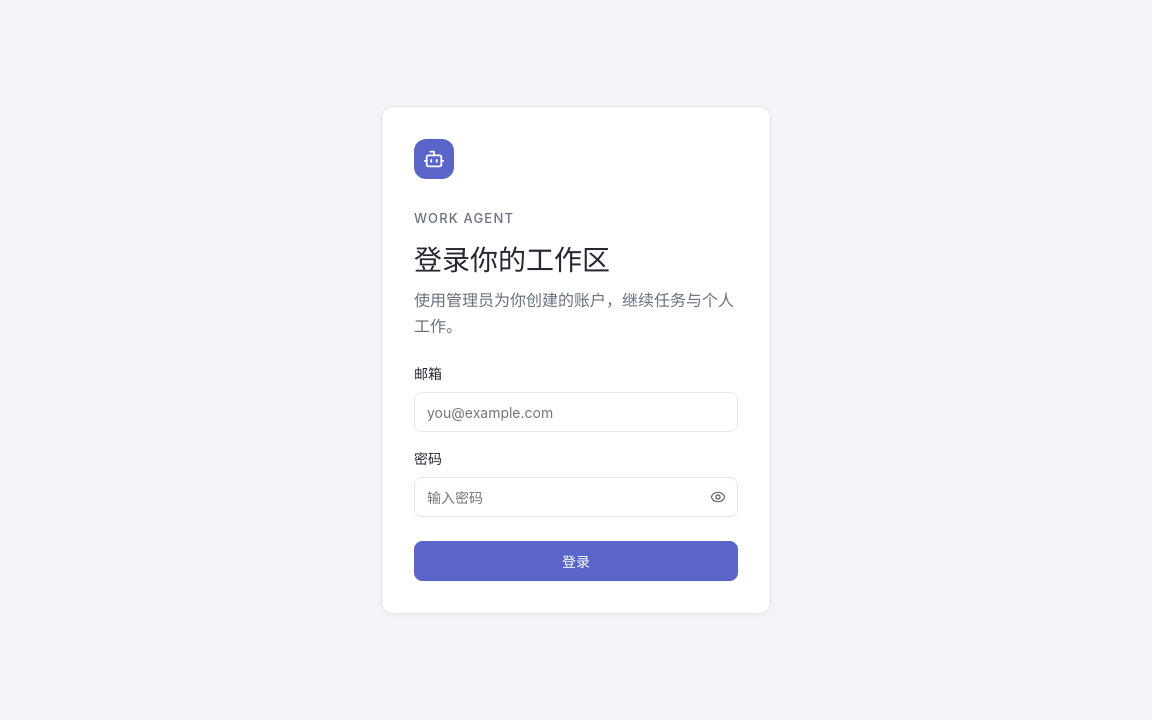
Scenario: authentication › routes unauthenticated users through password login and reports rejected credentials
expect the heading "登录你的工作区" is shown: met, box [414,243,610,277]
expect the heading "Quarterly plan" is not shown: met
Type "User@Example.com" into the field labelled "邮箱" at (576, 412), box [414,392,738,432]
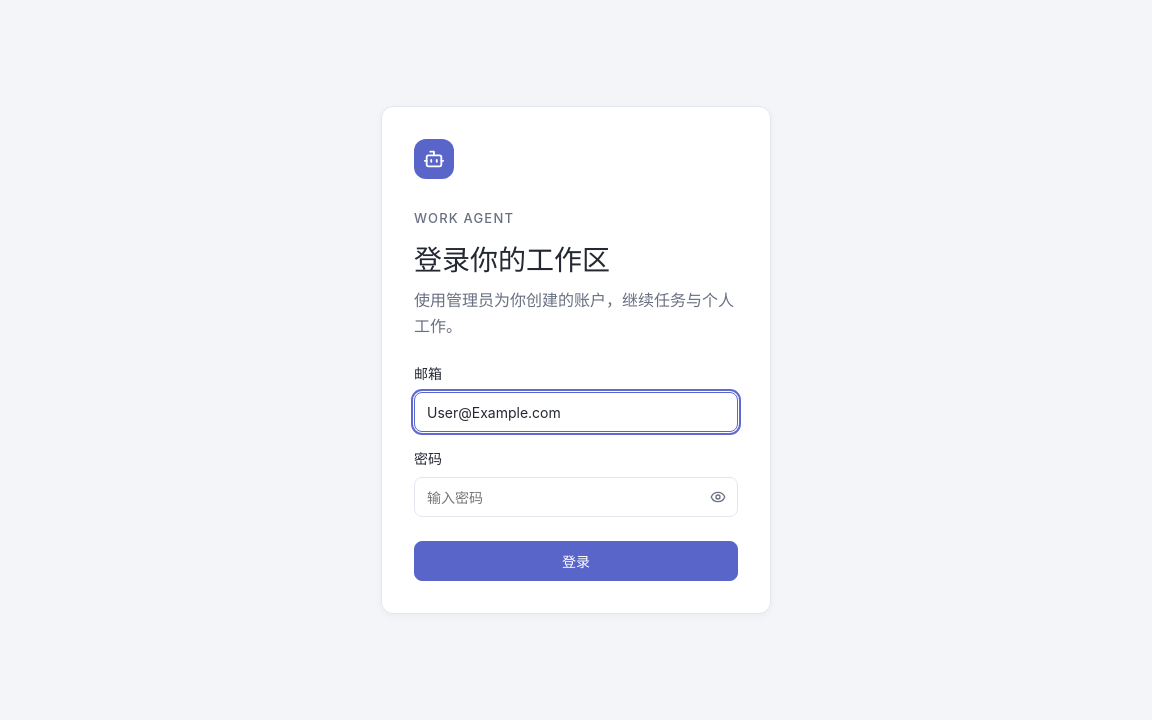
Type "wrong-password" into the password field labelled "密码" at (576, 497), box [414,477,738,517]
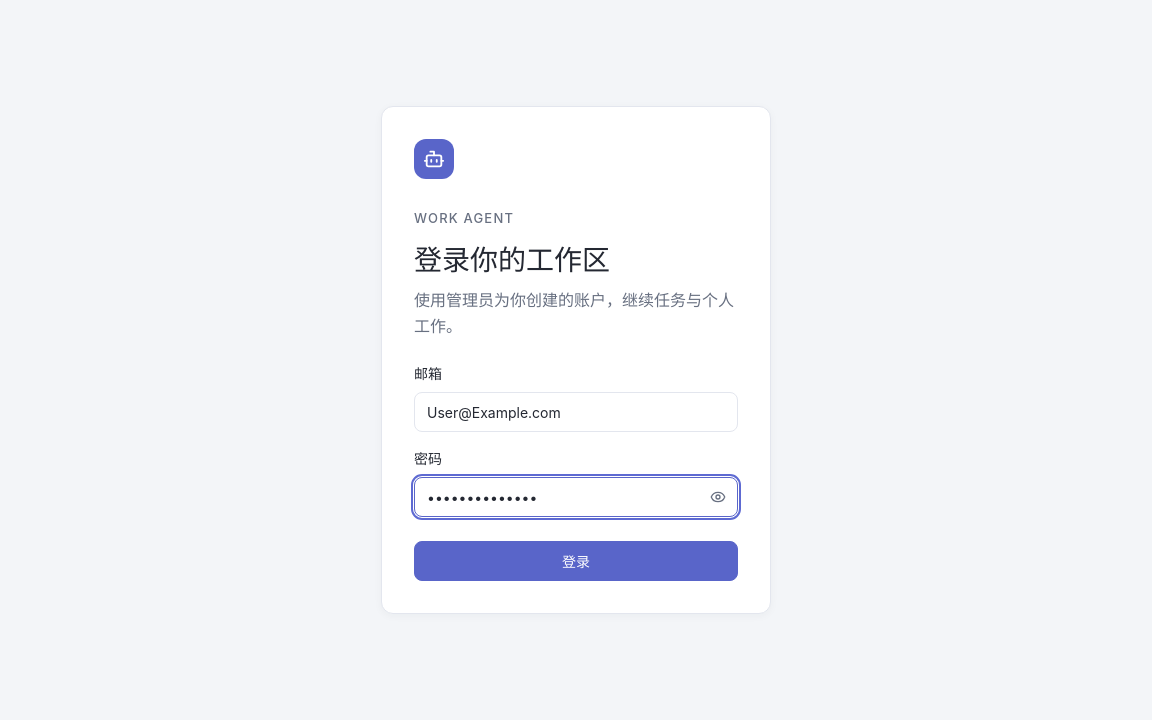
Click the button "登录" at (576, 561), box [414,541,738,581]
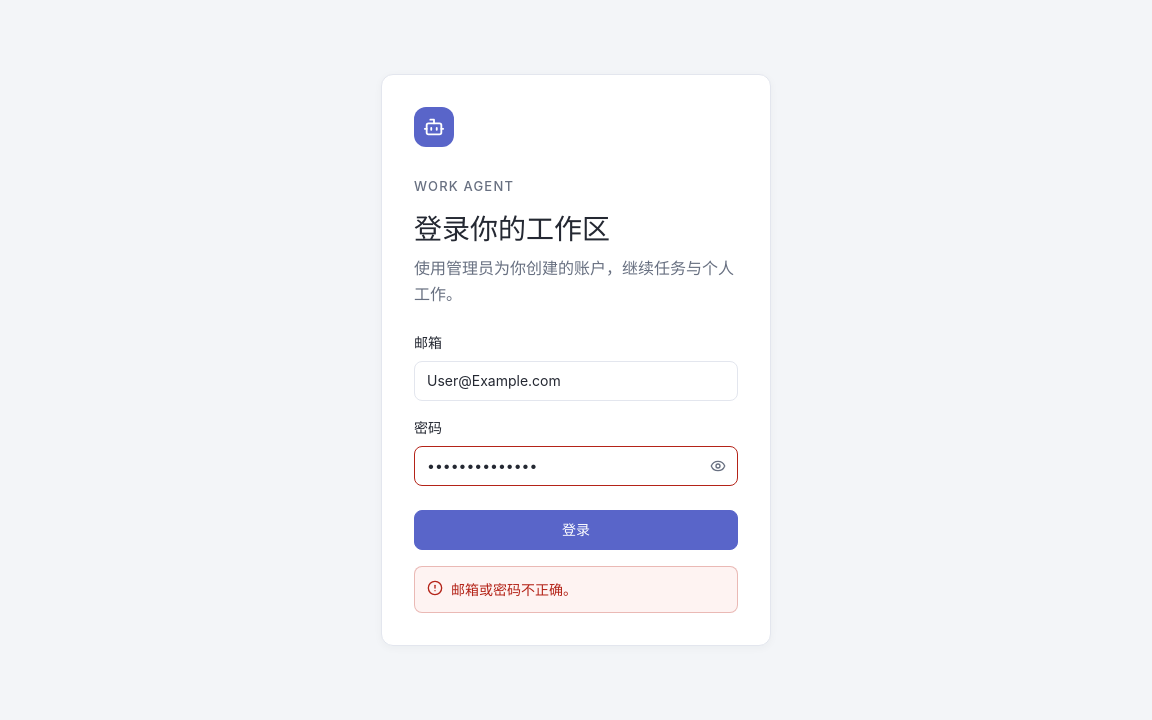
expect the text "邮箱或密码不正确。" is shown: met, box [451,581,577,598]
Type "correct-password" into the password field labelled "密码" at (576, 466), box [414,446,738,486]
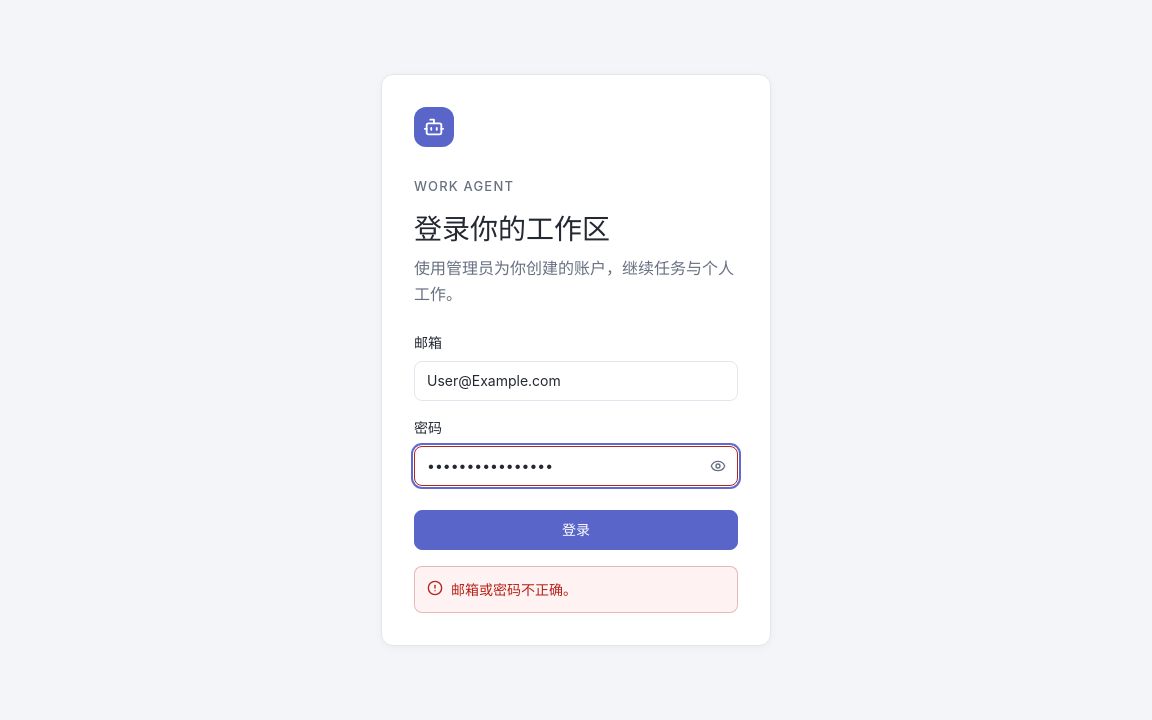
Click the button "登录" at (576, 530), box [414,510,738,550]
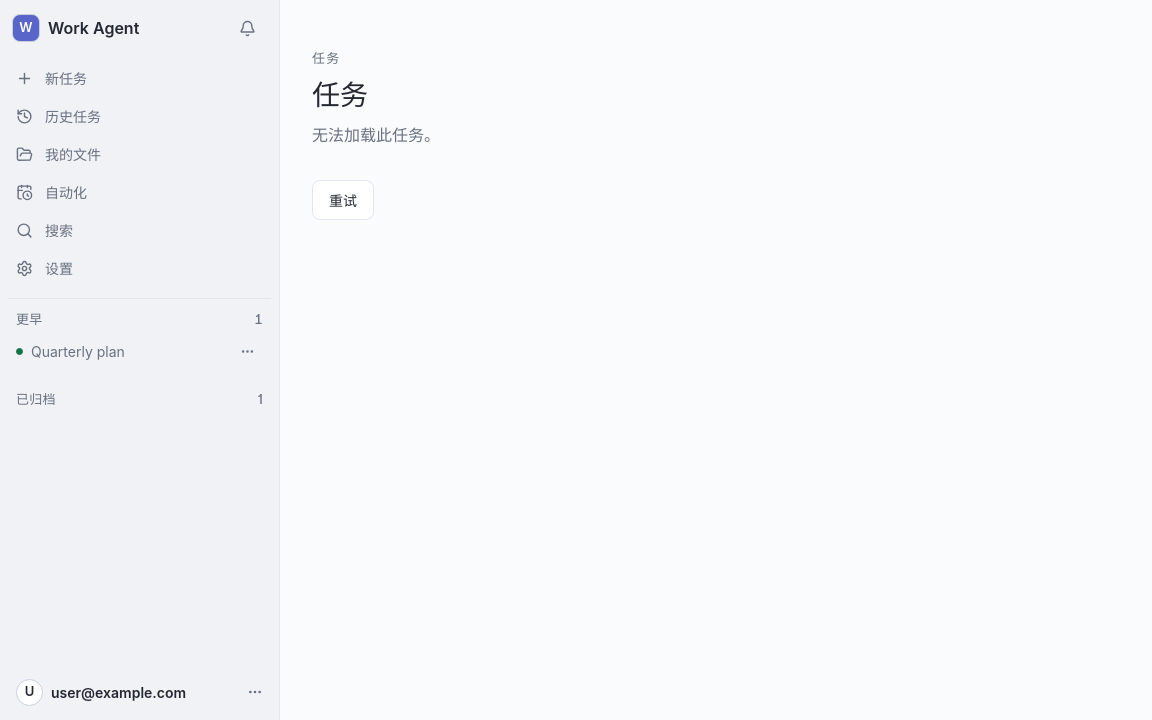
expect the heading "任务" is shown: met, box [312,78,368,112]
